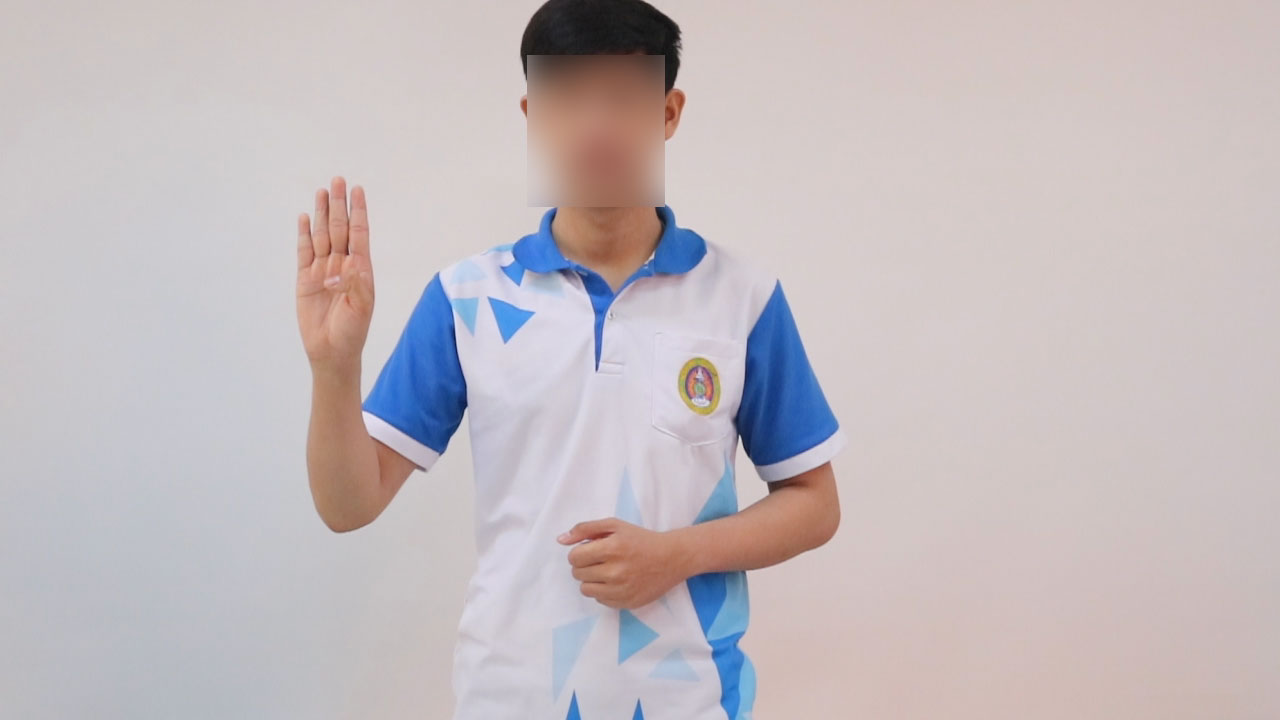bor: (277, 165, 392, 401)
